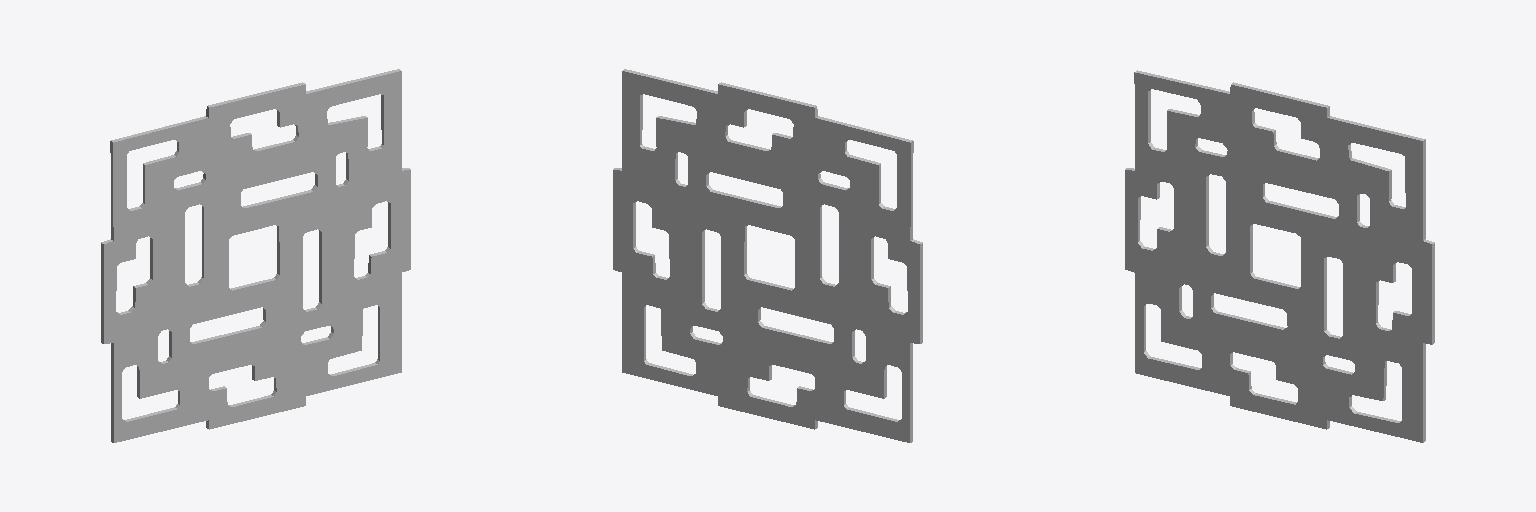
File: lampe_toit_STI2D.obj
The picture shows the model from 3 angles: view 1: azimuth 30°, elevation 25°; view 2: azimuth 150°, elevation 25°; view 3: azimuth 330°, elevation 25°; orthographic projection.
Parts seen in each view (by area): view 1: Object.1; view 2: Object.1; view 3: Object.1.
Boxes of the visible parts, <box> form: Object.1: <box>101,69,410,442</box>; Object.1: <box>613,69,922,442</box>; Object.1: <box>1125,70,1434,442</box>.
Bounding box in the file's own units: 100 × 100 × 1.5.